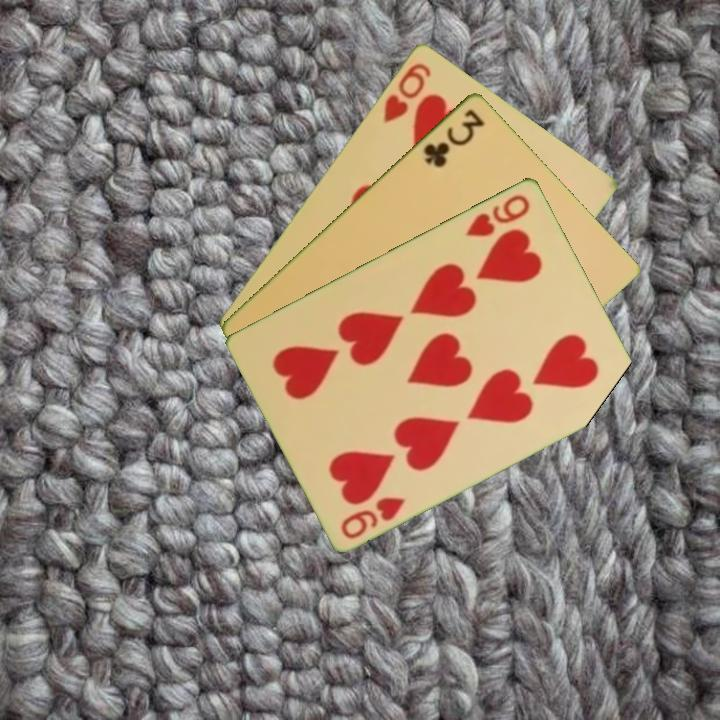3c: (419, 104, 488, 171)
6h: (379, 58, 434, 126)
9h: (462, 190, 533, 240), (337, 492, 409, 541)
